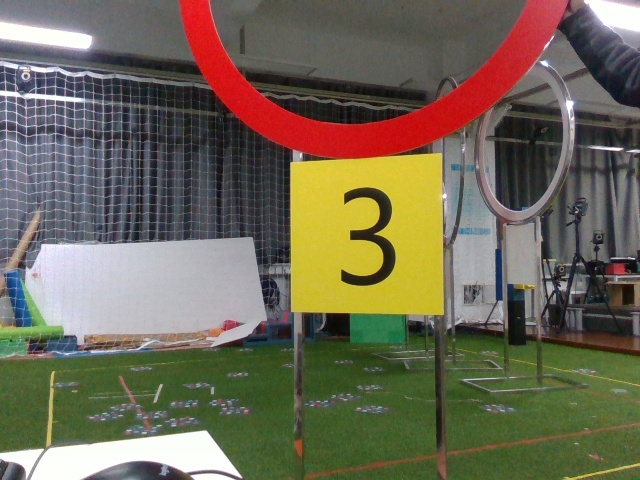target: (286, 157, 443, 310)
